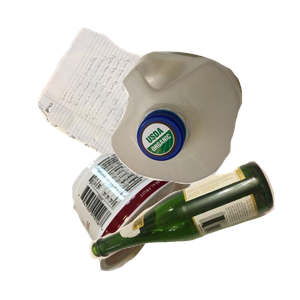glass: (87, 158, 300, 300)
paper: (35, 25, 232, 204)
plastic: (108, 49, 300, 226)
trash: (70, 149, 254, 300)
